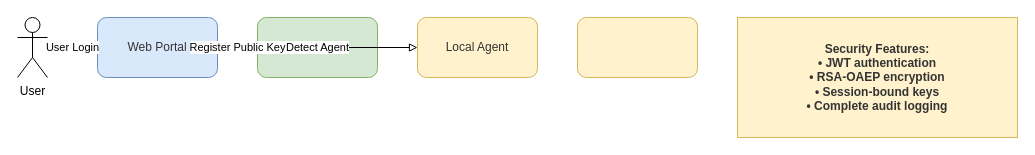
The diagram is 1035 pixels wide and 155 high, and some of its shapes have lost their labels. Each missing label, with the centre of its shape:
Backend API: the point at 317,47
YubiKey Device: the point at 637,47
